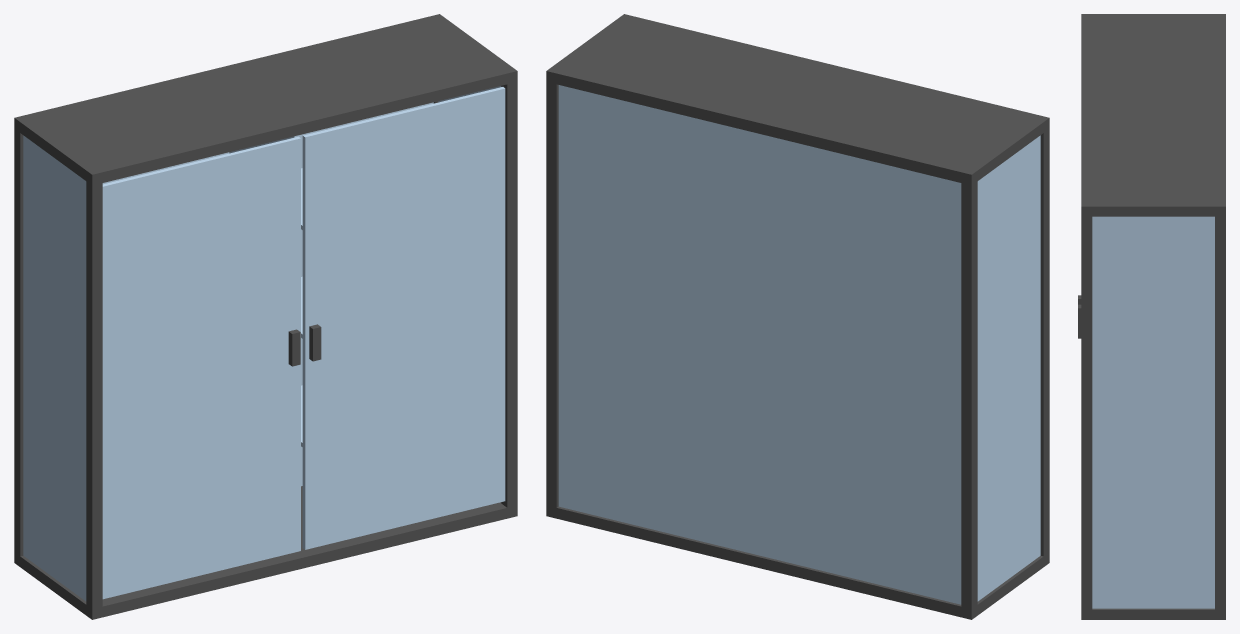
File: etalase2.glb
3 renders of one model, left to right at view 1: azimuth 30°, elevation 25°; view 2: azimuth 150°, elevation 25°; view 3: azimuth 270°, elevation 25°, orthographic. The views are drawn at different scales.
Parts seen in each view (by area): view 1: Pintu_Kanan, Pintu_Kiri, Atap, Kaca_Kiri, Alas, Tiang_3, Tiang_1, Tiang_2, Kaca_Belakang; view 2: Kaca_Belakang, Atap, Kaca_Kiri, Tiang_2, Alas, Tiang_0, Tiang_3; view 3: Kaca_Kanan, Atap, Tiang_1, Tiang_0, Alas.
Part boxes in pixels (box(x1,y1,x2,y2)): Pintu_Kanan: box(302, 87, 505, 549); Pintu_Kiri: box(102, 136, 300, 599); Atap: box(14, 14, 517, 185); Kaca_Kiri: box(23, 135, 86, 601); Alas: box(14, 486, 517, 619); Tiang_3: box(86, 176, 102, 614); Tiang_1: box(501, 76, 517, 512); Tiang_2: box(14, 123, 23, 561); Kaca_Belakang: box(102, 102, 433, 486); Kaca_Belakang: box(558, 85, 961, 604); Atap: box(546, 14, 1049, 185); Kaca_Kiri: box(977, 135, 1040, 601); Tiang_2: box(961, 176, 977, 614); Alas: box(546, 506, 1049, 619); Tiang_0: box(546, 76, 558, 512); Tiang_3: box(1040, 124, 1049, 561); Kaca_Kanan: box(1092, 216, 1214, 608); Atap: box(1081, 14, 1225, 216); Tiang_1: box(1081, 211, 1092, 614); Tiang_0: box(1215, 211, 1225, 614); Alas: box(1081, 608, 1225, 619).
Bounding box in the file's own units: 2.05 × 2.05 × 0.665.
